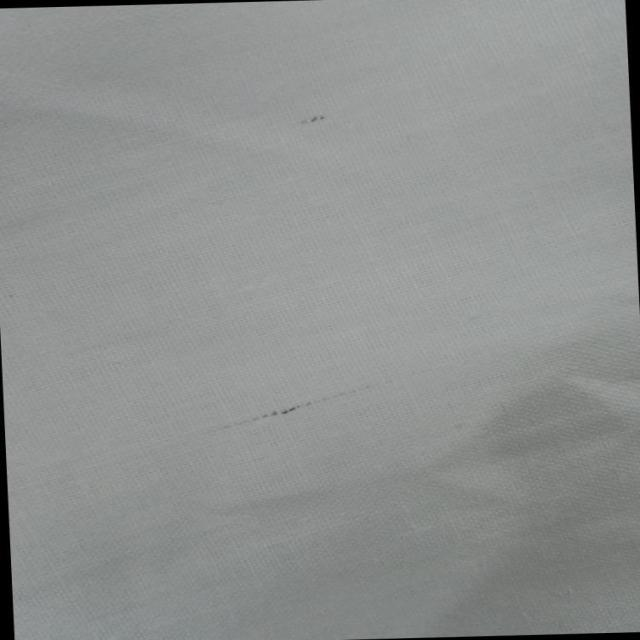contamination: (215, 374, 400, 434), (293, 111, 335, 127)
